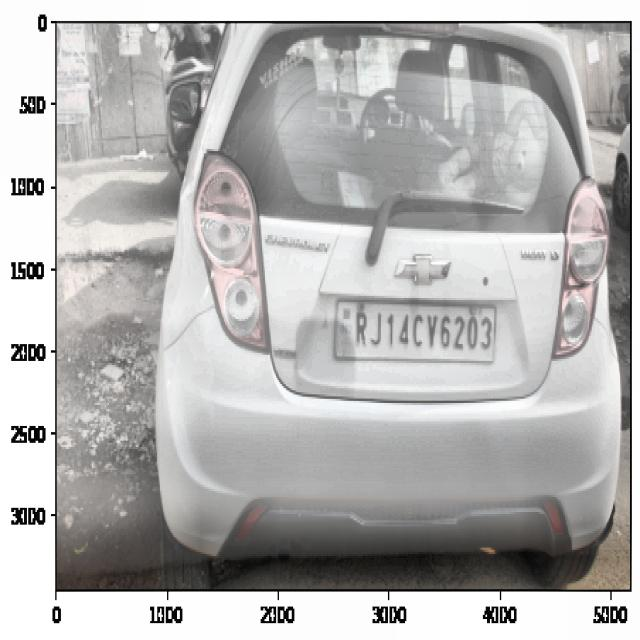license_plate: (346, 301, 499, 360)
